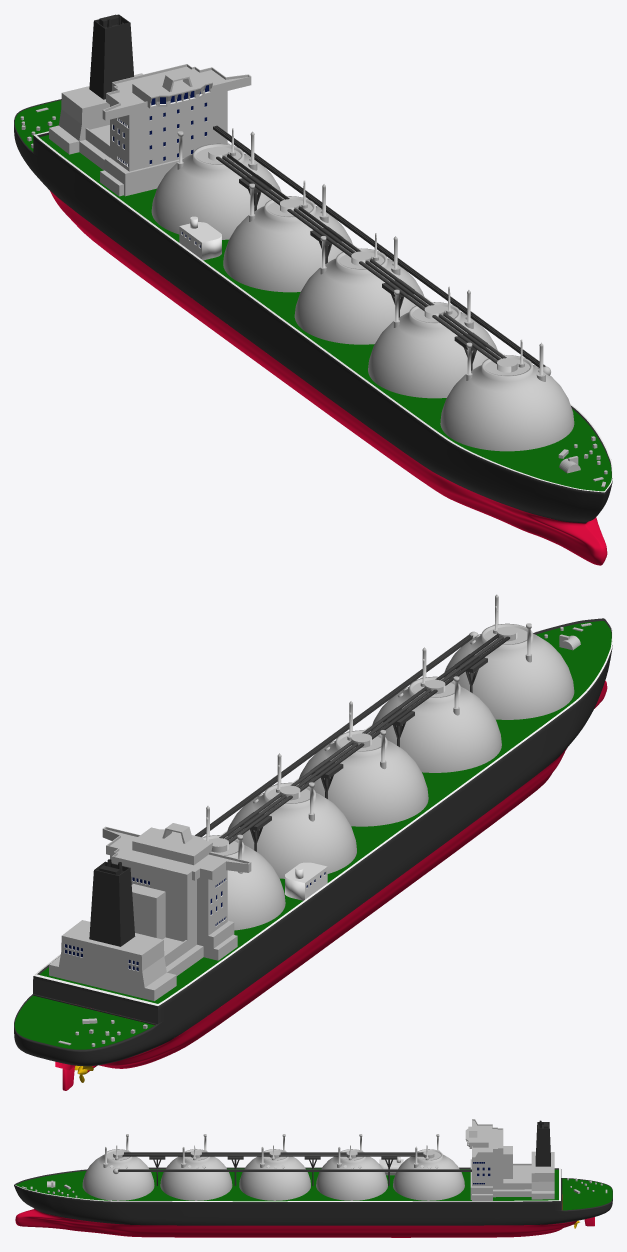
The model's file is ship.glb.
3 views of the same model, one above another, from view 1: azimuth 30°, elevation 25°; view 2: azimuth 150°, elevation 25°; view 3: azimuth 270°, elevation 25° (orthographic). The views are drawn at different scales.
Visible parts, largest first — view 1: Cube, Sphere, Cylinder, Cube.001; view 2: Cube, Sphere, Cylinder, Cube.001; view 3: Cube, Sphere, Cylinder, Cube.001.
Boxes of the visible parts, left/top/right/bottom form: Cube: left=14, top=14, right=612, bottom=565; Sphere: left=151, top=125, right=574, bottom=451; Cylinder: left=216, top=154, right=506, bottom=370; Cube.001: left=179, top=216, right=221, bottom=260; Cube: left=14, top=618, right=612, bottom=1070; Sphere: left=195, top=594, right=574, bottom=930; Cylinder: left=219, top=634, right=509, bottom=851; Cube.001: left=285, top=862, right=327, bottom=900; Cube: left=14, top=1119, right=612, bottom=1237; Sphere: left=82, top=1134, right=471, bottom=1200; Cylinder: left=122, top=1152, right=424, bottom=1185; Cube.001: left=379, top=1156, right=403, bottom=1175.
Bounding box in the file's own units: 6.59 × 8.51 × 43.52.
